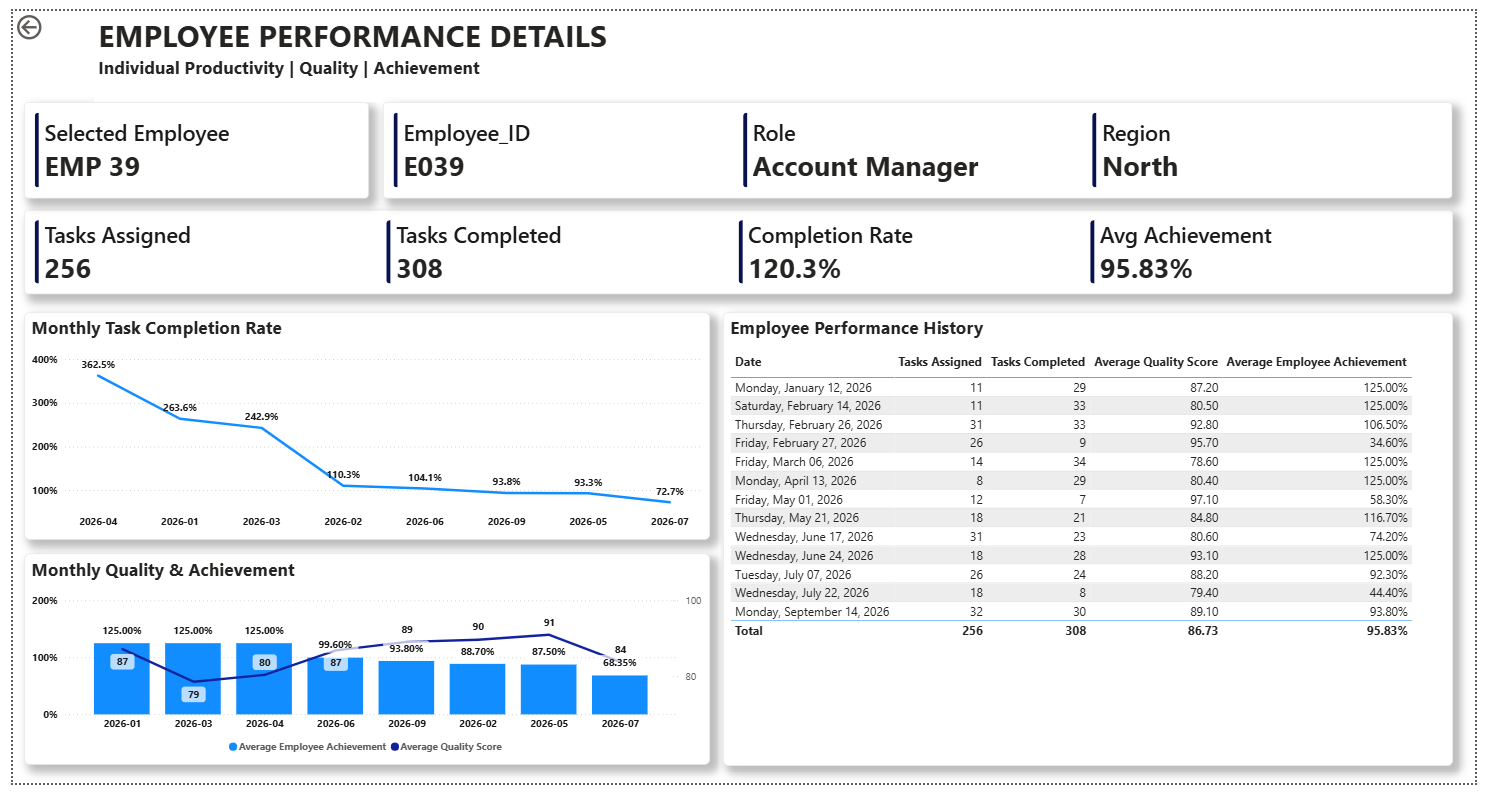

What the dashboard file says about the page in this screenshot:
{"tool":"powerbi","page":{"name":"Employee Details","canvas":[1800,950],"ordinal":5},"visuals":[{"type":"actionButton","box":[0,0,100,40],"z":0},{"type":"cardVisual","fields":{"Data":["Measure.Task Assigned","Measure.Tasks Completed","Measure.Task Completion Rate","Measure.Average Employee Achievement"]},"box":[14,244,1758,104],"z":1000},{"type":"lineChart","title":"Monthly Task Completion Rate","fields":{"Category":["DimDate.Year_Month"],"Y":["Measure.Task Completion Rate"]},"box":[14,370,844,280],"z":2000},{"type":"lineClusteredColumnComboChart","title":"Monthly Quality & Achievement","fields":{"Category":["DimDate.Year_Month"],"Y":["Measure.Average Employee Achievement"],"Y2":["Measure.Average Quality Score"]},"box":[14,668,844,260],"z":3000},{"type":"tableEx","title":"Employee Performance History","fields":{"Values":["DimDate.Date","Measure.Tasks Assigned","Measure.Tasks Completed","Measure.Average Quality Score","Measure.Average Employee Achievement"]},"box":[874,370,898,558],"z":4000},{"type":"cardVisual","fields":{"Data":["Min(DimEmployee.Employee_Name)"]},"box":[14,112,424,118],"z":5000},{"type":"textbox","box":[100,0,674,112],"z":6000},{"type":"cardVisual","fields":{"Data":["Min(DimEmployee.Employee_ID)","Min(DimEmployee.Role)","Min(DimRegion.Region)"]},"box":[456,112,1316,118],"z":7000}]}

Visuals, with their boxes in screenshot pixels (x1, y1, x2, y2), scaled from the page's 1800x950 canvas onto the 1485x792 screenshot:
actionButton: [x1=0, y1=0, x2=82, y2=33]
cardVisual - Measure.Task Assigned x Measure.Tasks Completed: [x1=12, y1=203, x2=1462, y2=290]
"Monthly Task Completion Rate" lineChart: [x1=12, y1=308, x2=708, y2=542]
"Monthly Quality & Achievement" lineClusteredColumnComboChart: [x1=12, y1=557, x2=708, y2=774]
"Employee Performance History" tableEx: [x1=721, y1=308, x2=1462, y2=774]
cardVisual - Min(DimEmployee.Employee_Name): [x1=12, y1=93, x2=361, y2=192]
textbox: [x1=82, y1=0, x2=639, y2=93]
cardVisual - Min(DimEmployee.Employee_ID) x Min(DimEmployee.Role): [x1=376, y1=93, x2=1462, y2=192]
